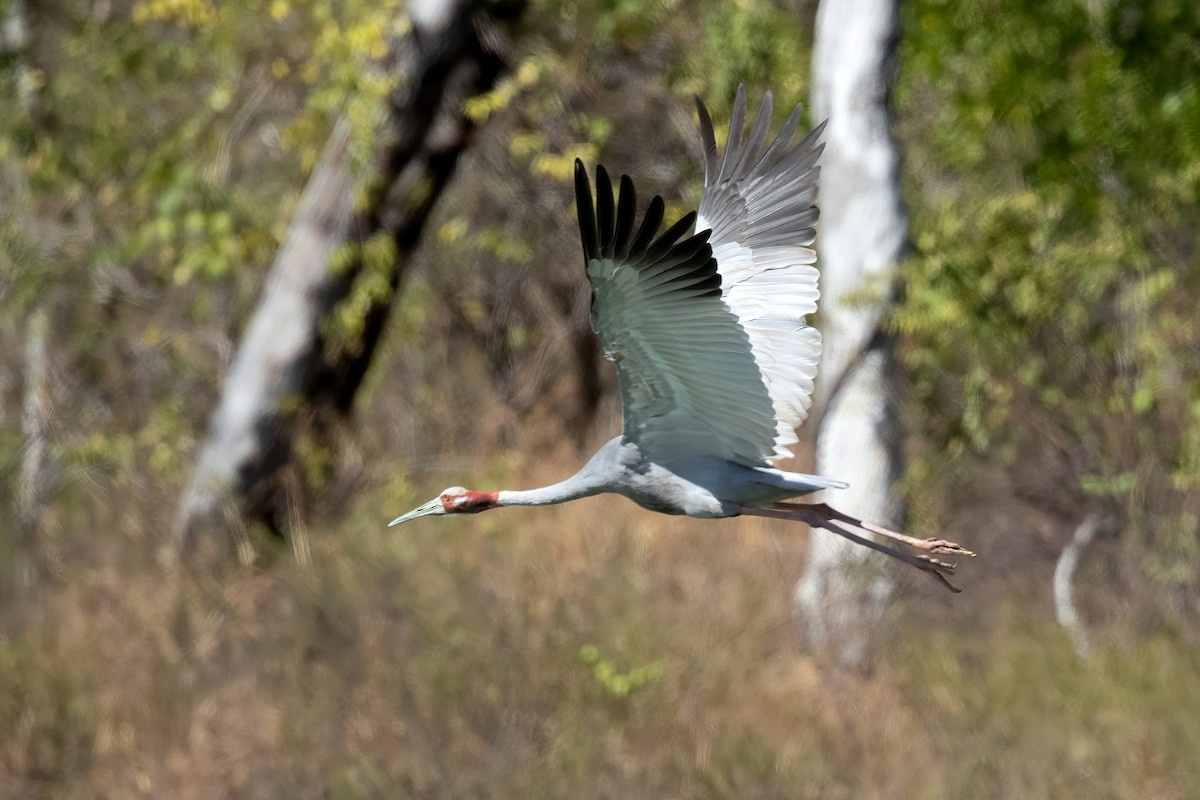crane: (381, 74, 1001, 607)
